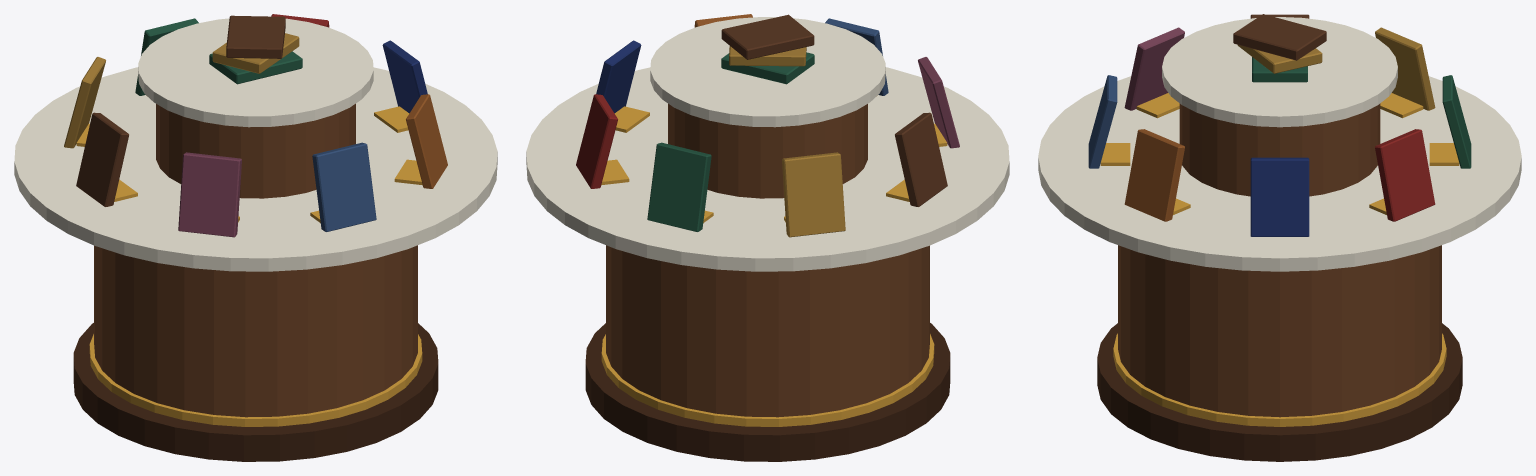
The model's file is display.glb.
3 renders of one model, left to right at view 1: azimuth 30°, elevation 25°; view 2: azimuth 150°, elevation 25°; view 3: azimuth 270°, elevation 25°, orthographic.
Visible parts, largest first — view 1: display_marble, display_wood, display_books, display_wood_dark, display_brass; view 2: display_marble, display_wood, display_books, display_wood_dark, display_brass; view 3: display_wood, display_marble, display_books, display_wood_dark, display_brass.
Part boxes in pixels (bbox=[...]): display_marble: bbox=[14, 18, 497, 271]; display_wood: bbox=[94, 103, 417, 417]; display_books: bbox=[64, 14, 447, 237]; display_wood_dark: bbox=[73, 323, 438, 461]; display_brass: bbox=[76, 96, 422, 426]; display_marble: bbox=[526, 17, 1009, 271]; display_wood: bbox=[606, 103, 929, 417]; display_books: bbox=[576, 14, 959, 237]; display_wood_dark: bbox=[585, 323, 950, 461]; display_brass: bbox=[601, 96, 947, 426]; display_wood: bbox=[1118, 103, 1441, 417]; display_marble: bbox=[1038, 17, 1521, 271]; display_books: bbox=[1088, 14, 1471, 236]; display_wood_dark: bbox=[1097, 323, 1462, 461]; display_brass: bbox=[1100, 93, 1459, 426].
Size of the model in its own units: 1.64 by 1.32 by 1.64.
